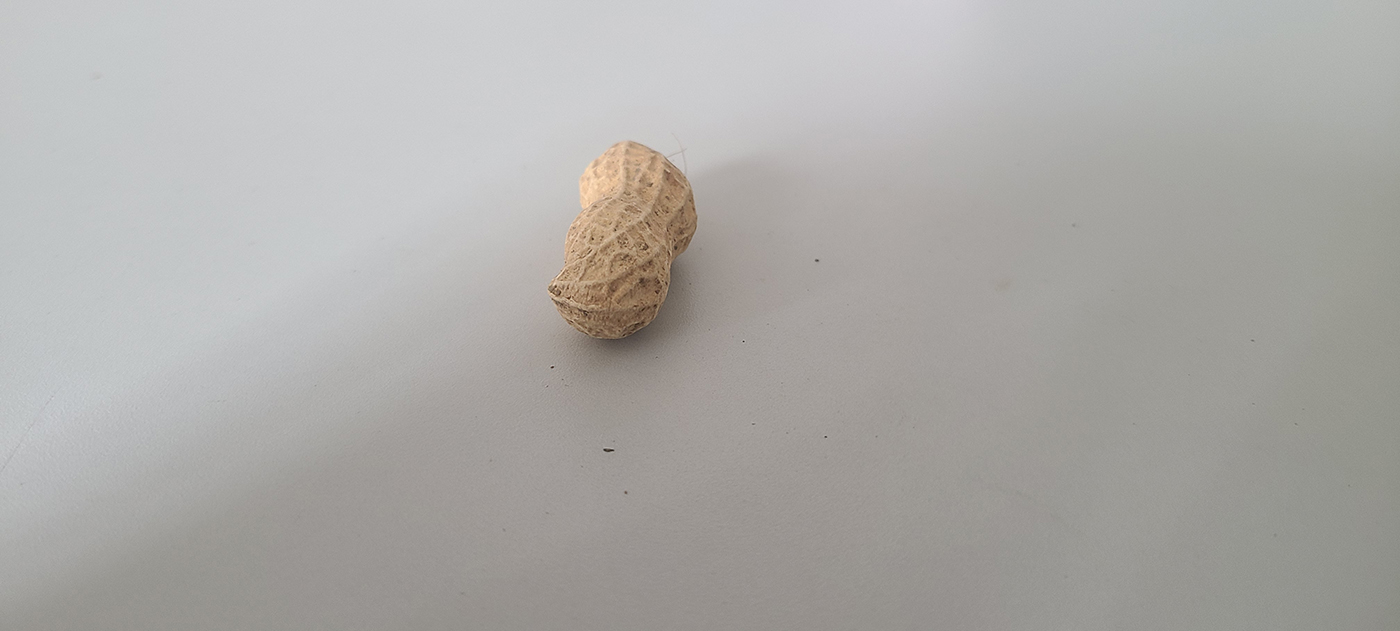h: (548, 138, 699, 339)
